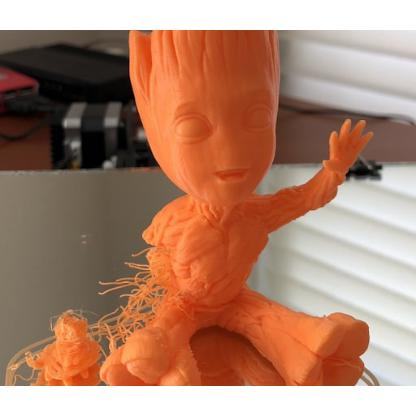fail: (90, 242, 178, 334)
